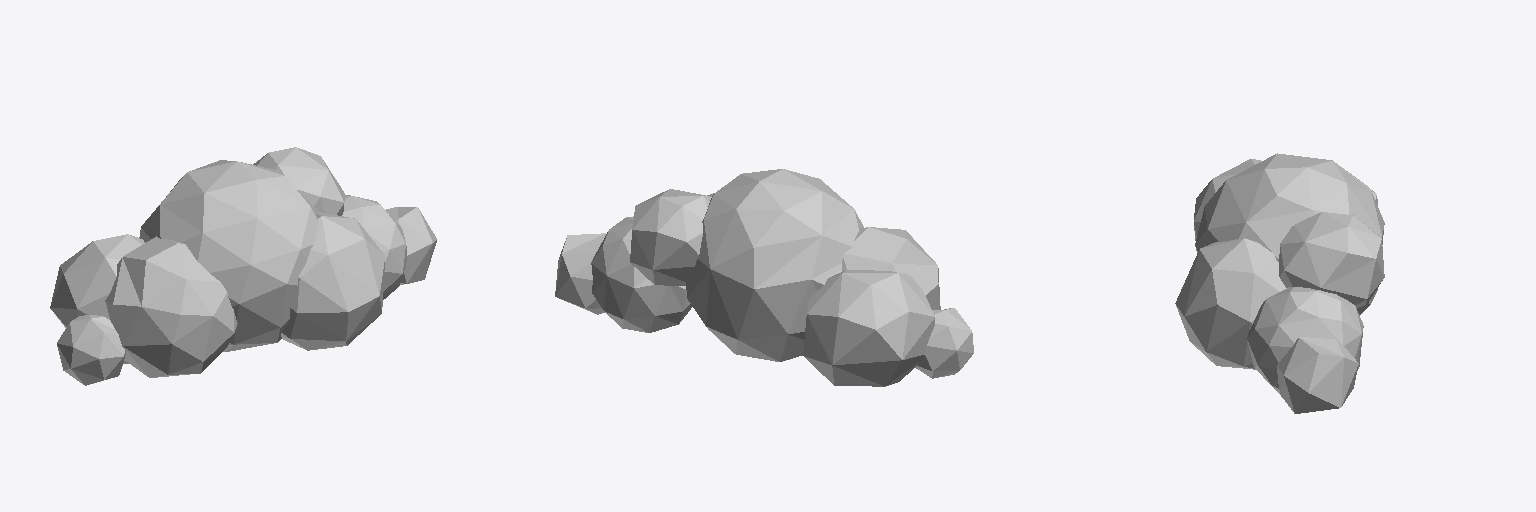
File: cloud 1.obj
3 views of the same model, side by side, from view 1: azimuth 30°, elevation 25°; view 2: azimuth 150°, elevation 25°; view 3: azimuth 270°, elevation 25° (orthographic).
Visible parts, largest first — view 1: low_poly_cloud_v1; view 2: low_poly_cloud_v1; view 3: low_poly_cloud_v1.
Boxes of the visible parts, box(x1,y1,x2,y2) form: low_poly_cloud_v1: box(50, 147, 436, 385); low_poly_cloud_v1: box(555, 169, 973, 386); low_poly_cloud_v1: box(1175, 153, 1384, 413).
Size of the model in its own units: 8.8 by 3.7 by 4.08.